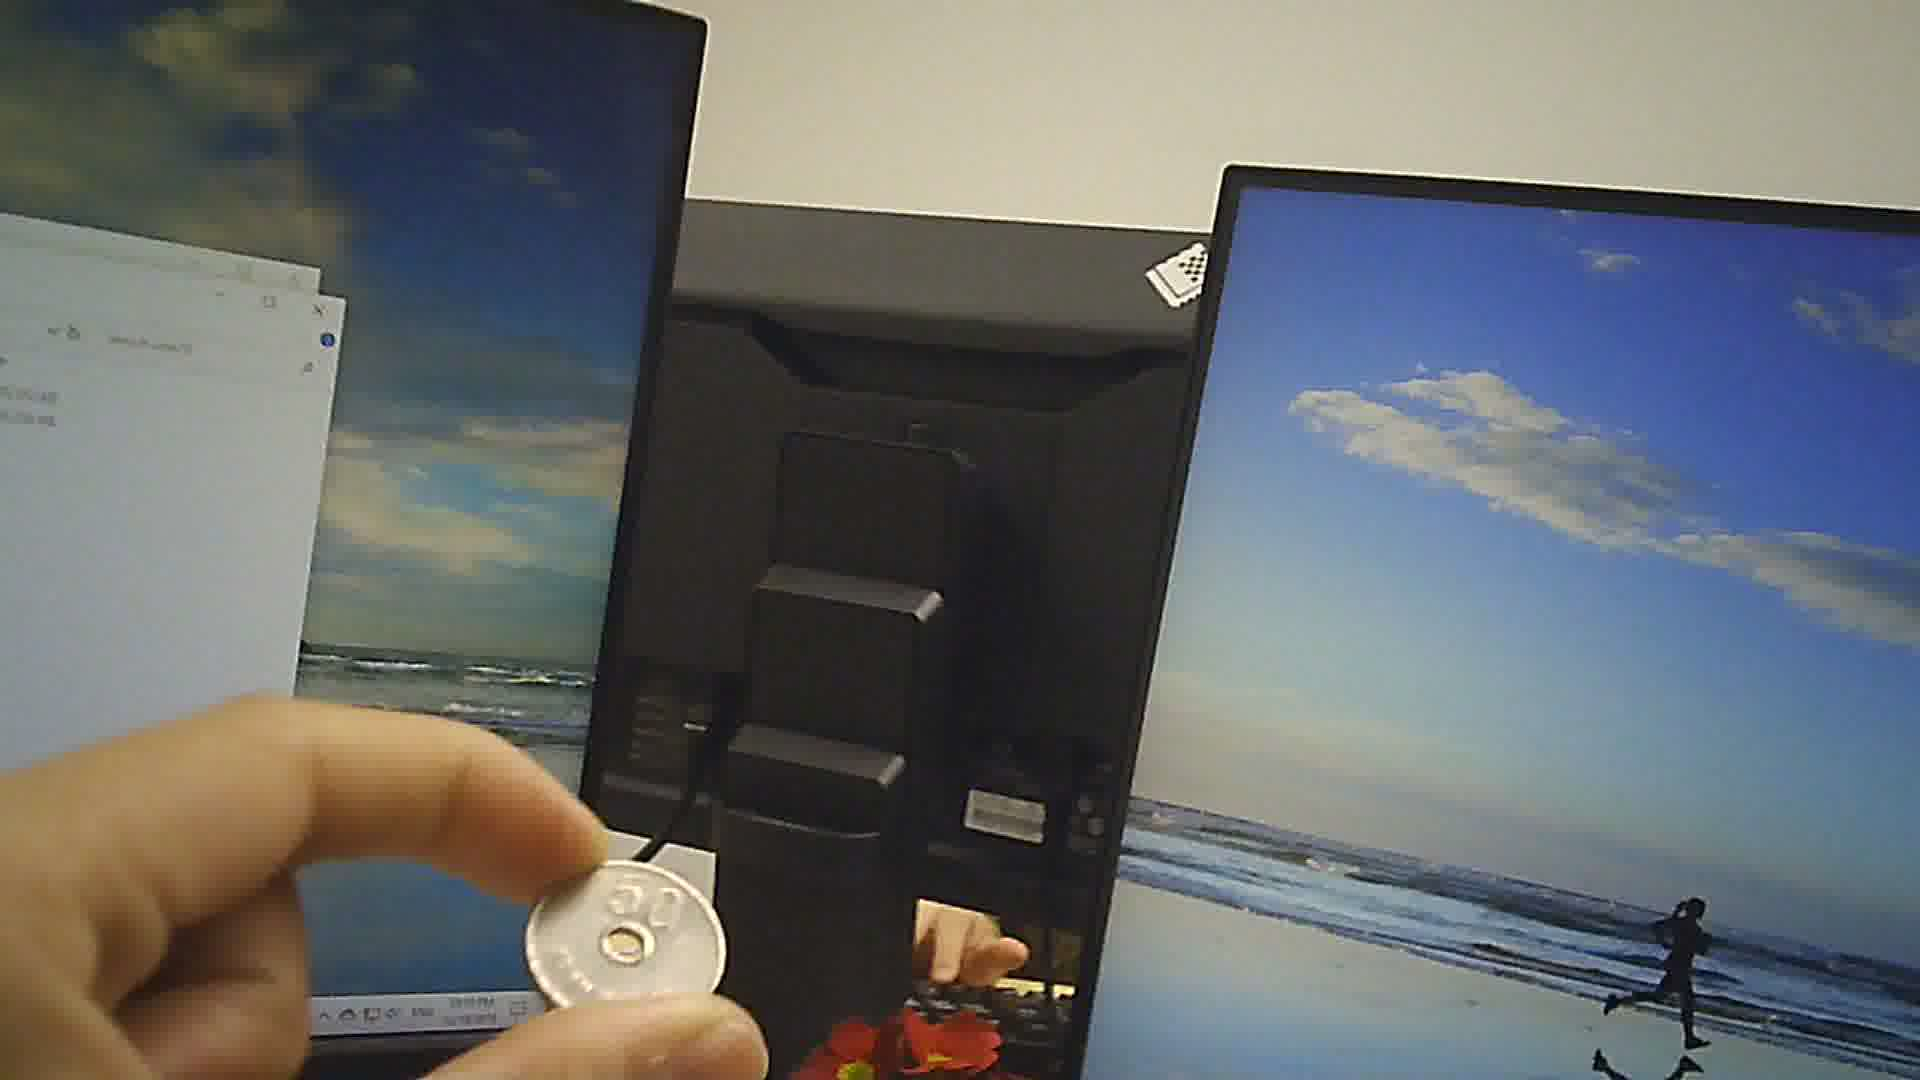50 Yen: (529, 855, 731, 1017)
